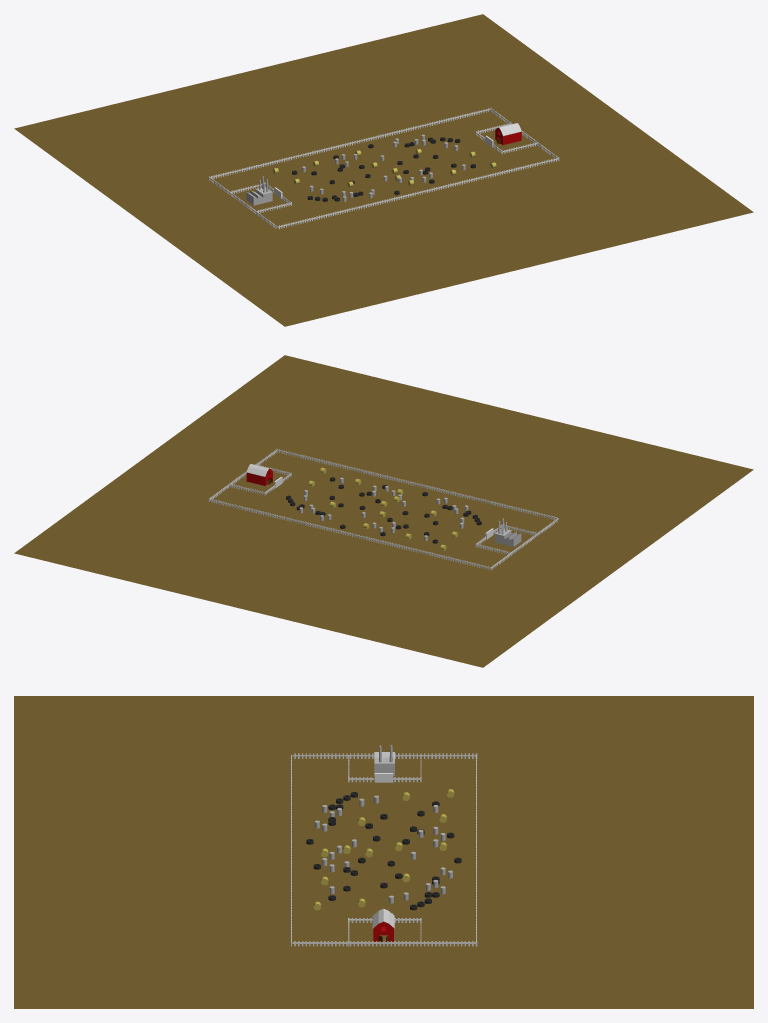
Rendered from Map2.fbx.
3 renders of one model, top to bottom at view 1: azimuth 30°, elevation 25°; view 2: azimuth 150°, elevation 25°; view 3: azimuth 270°, elevation 25°, orthographic. The views are drawn at different scales.
Visible parts, largest first — view 1: Terrain, Barrieres, Obstacles; view 2: Terrain, Barrieres, Obstacles; view 3: Terrain, Obstacles, Barrieres, Ferme.
Boxes of the visible parts, x1=… form: Terrain: x1=14, y1=14, x2=753, y2=326; Barrieres: x1=209, y1=107, x2=559, y2=229; Obstacles: x1=272, y1=134, x2=496, y2=201; Terrain: x1=14, y1=355, x2=753, y2=667; Barrieres: x1=208, y1=449, x2=558, y2=570; Obstacles: x1=286, y1=467, x2=481, y2=550; Terrain: x1=14, y1=696, x2=753, y2=1008; Obstacles: x1=306, y1=789, x2=461, y2=910; Barrieres: x1=291, y1=753, x2=477, y2=946; Ferme: x1=372, y1=908, x2=394, y2=942.
Bounding box in the file's own units: 200 × 9.78 × 200.
